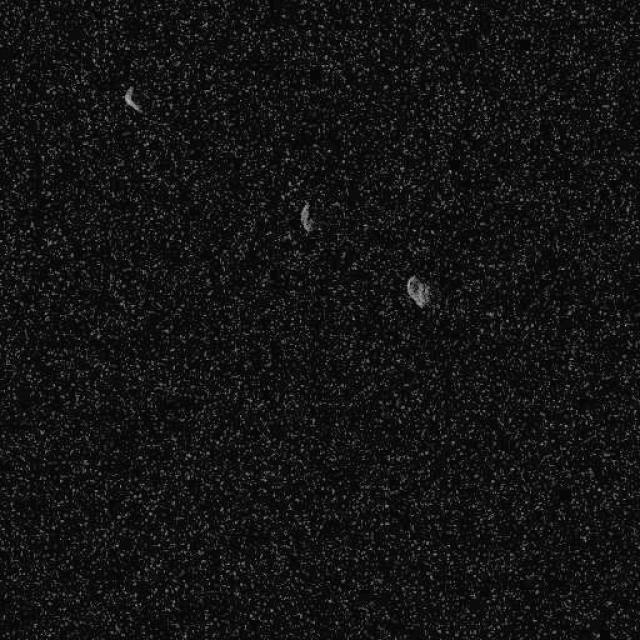D2: (405, 272, 433, 308), (122, 84, 142, 114), (299, 200, 315, 232)
